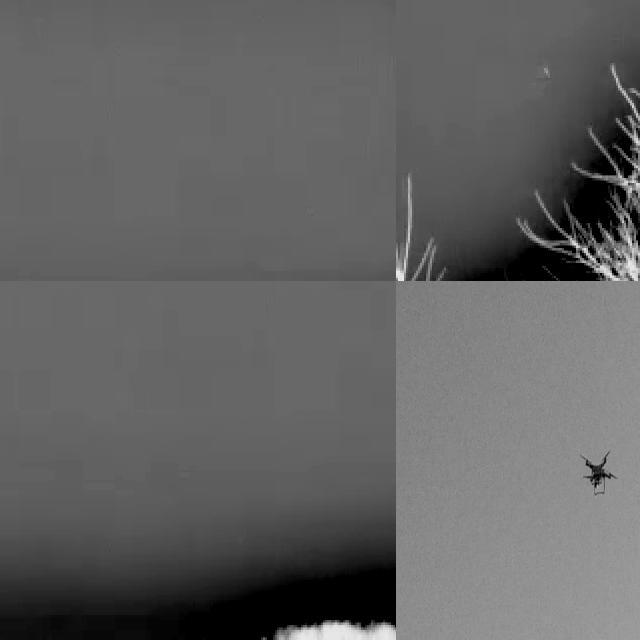0: (530, 58, 560, 88)
drone: (580, 448, 620, 503)
